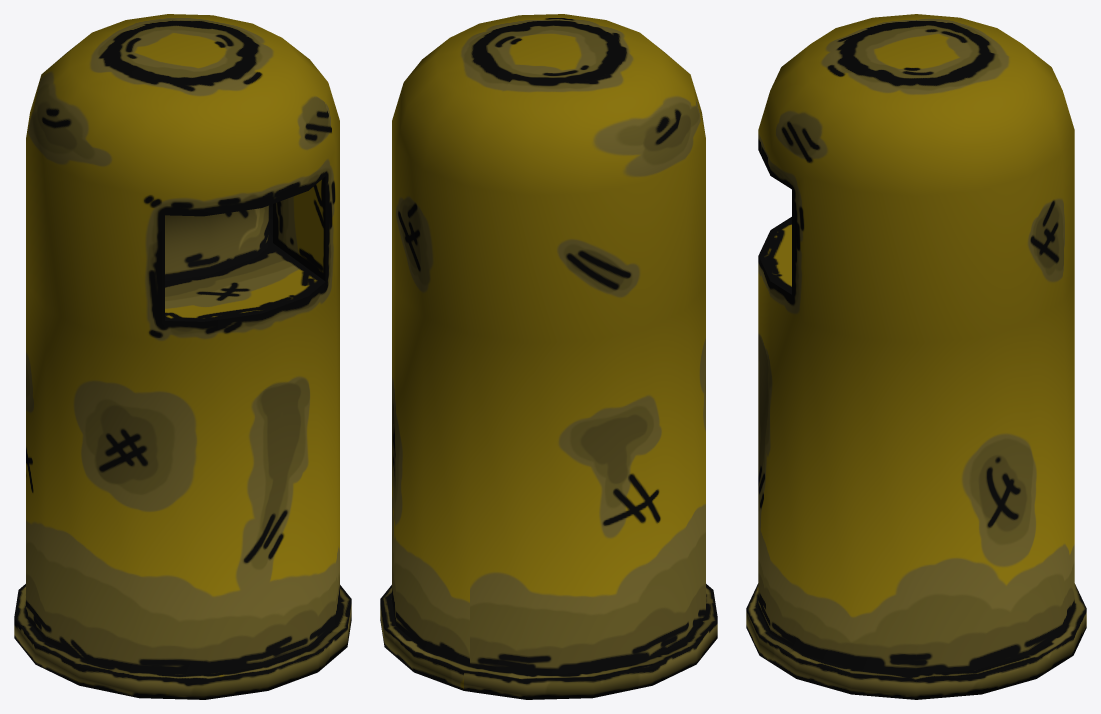
File: Trashcan.fbx
The picture shows the model from 3 angles, left to right: view 1: azimuth 30°, elevation 25°; view 2: azimuth 150°, elevation 25°; view 3: azimuth 270°, elevation 25°; orthographic projection.
Parts seen in each view (by area): view 1: Cylinder.001; view 2: Cylinder.001; view 3: Cylinder.001.
Part boxes in pixels (x1,y1,x2,y2): Cylinder.001: [14, 14, 351, 699]; Cylinder.001: [380, 14, 717, 699]; Cylinder.001: [746, 14, 1086, 699].
Size of the model in its own units: 88.61 by 166 by 88.61.
